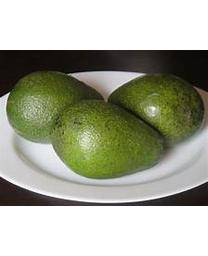avocado: (50, 100, 165, 180), (6, 70, 106, 143), (107, 72, 205, 146)
